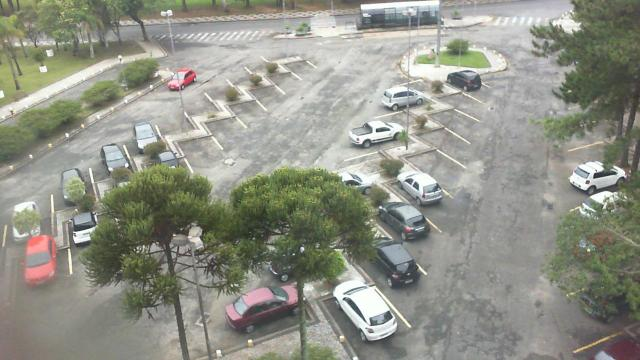empty: (405, 140, 459, 184), (416, 115, 468, 154), (339, 140, 398, 174), (426, 98, 478, 132), (368, 99, 426, 127), (437, 83, 489, 113), (181, 125, 219, 163), (204, 106, 243, 140), (158, 102, 196, 136), (229, 90, 267, 122), (204, 70, 240, 100), (265, 60, 303, 88), (248, 74, 284, 102), (225, 59, 261, 87), (183, 86, 217, 115), (282, 50, 318, 74), (400, 71, 442, 89), (246, 50, 276, 74)
occupied: (322, 275, 402, 349), (236, 282, 324, 342), (351, 226, 425, 292), (386, 162, 450, 214), (373, 199, 439, 249), (94, 138, 136, 182), (355, 121, 413, 149), (126, 121, 166, 157), (380, 84, 434, 106), (449, 69, 491, 95)
